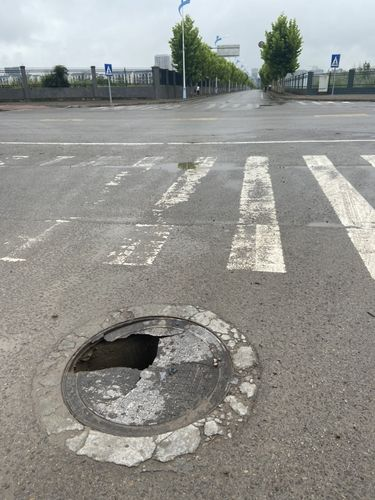broke: (18, 293, 265, 471)
